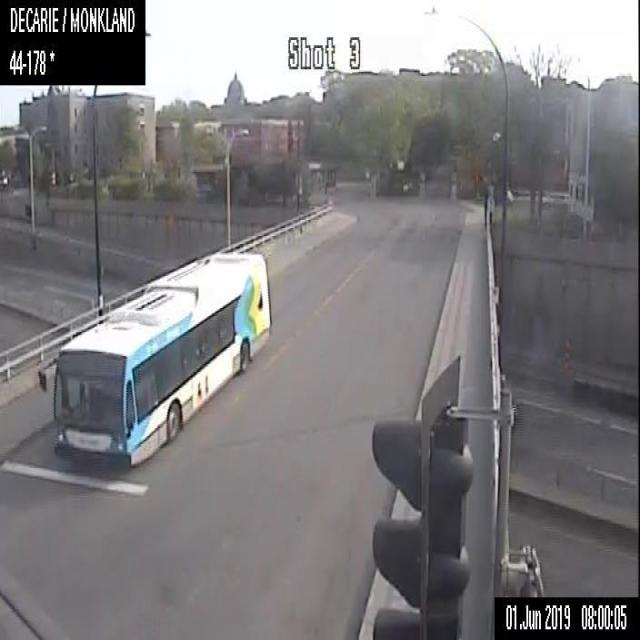bus: (35, 249, 272, 471)
